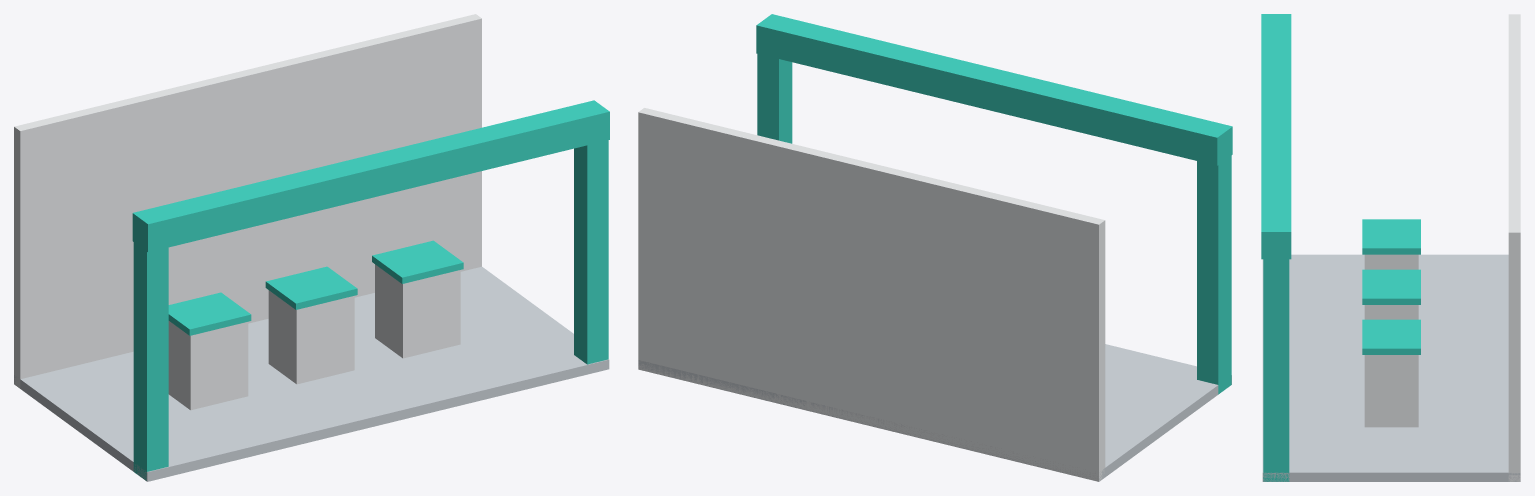
3 views of the same model, side by side, from view 1: azimuth 30°, elevation 25°; view 2: azimuth 150°, elevation 25°; view 3: azimuth 270°, elevation 25° (orthographic). The views are drawn at different scales.
Parts seen in each view (by area): view 1: Exhibition Booth Concept; view 2: Exhibition Booth Concept; view 3: Exhibition Booth Concept.
Part boxes in pixels (left/top/right/bottom): Exhibition Booth Concept: left=14, top=14, right=609, bottom=481; Exhibition Booth Concept: left=638, top=14, right=1232, bottom=481; Exhibition Booth Concept: left=1261, top=14, right=1520, bottom=481.
Bounding box in the file's own units: 6 × 3.2 × 3.01.
